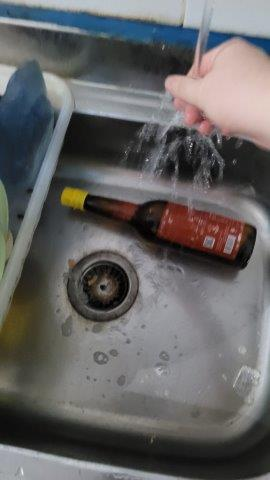botolkaca: (56, 186, 256, 271)
